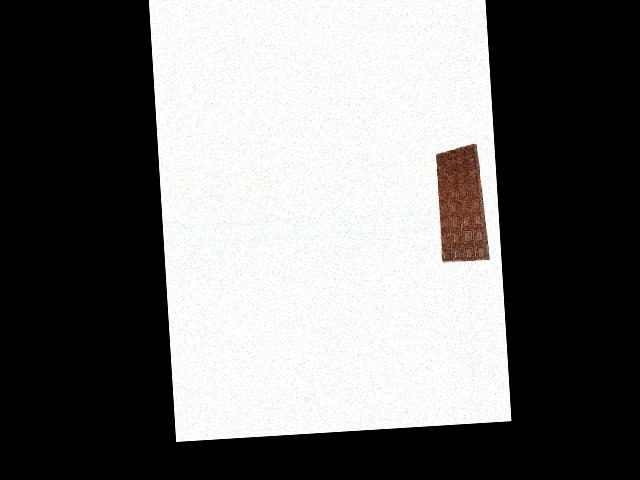chocolate: (434, 141, 488, 264)
